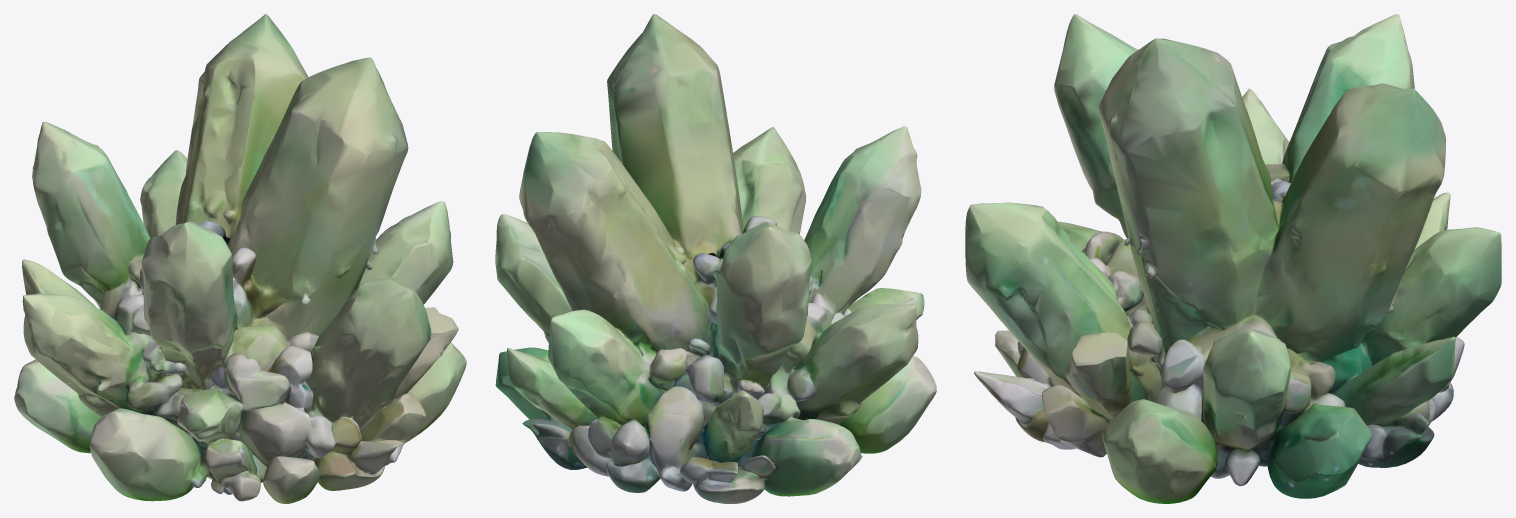
Rendered from prop-crystal-green.glb.
The picture shows the model from 3 angles, left to right: view 1: azimuth 30°, elevation 25°; view 2: azimuth 150°, elevation 25°; view 3: azimuth 270°, elevation 25°; orthographic projection. The views are drawn at different scales.
Parts seen in each view (by area): view 1: tripo_node_37337846-6a40-4e03-9531-d1ca3e5bac40; view 2: tripo_node_37337846-6a40-4e03-9531-d1ca3e5bac40; view 3: tripo_node_37337846-6a40-4e03-9531-d1ca3e5bac40.
Boxes of the visible parts, bbox=[...] form: tripo_node_37337846-6a40-4e03-9531-d1ca3e5bac40: bbox=[14, 14, 466, 503]; tripo_node_37337846-6a40-4e03-9531-d1ca3e5bac40: bbox=[495, 14, 936, 503]; tripo_node_37337846-6a40-4e03-9531-d1ca3e5bac40: bbox=[965, 14, 1501, 503].
Size of the model in its own units: 2.3 by 2 by 2.19.
1 material, 1 textured.
